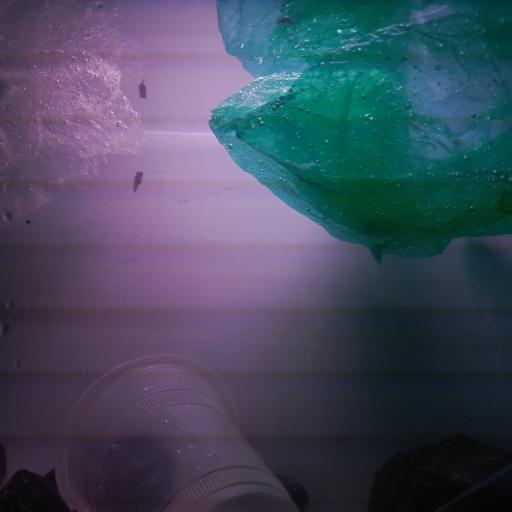plastic_bag: (206, 0, 512, 269), (0, 48, 154, 236)
plastic_cup: (54, 348, 298, 512)
